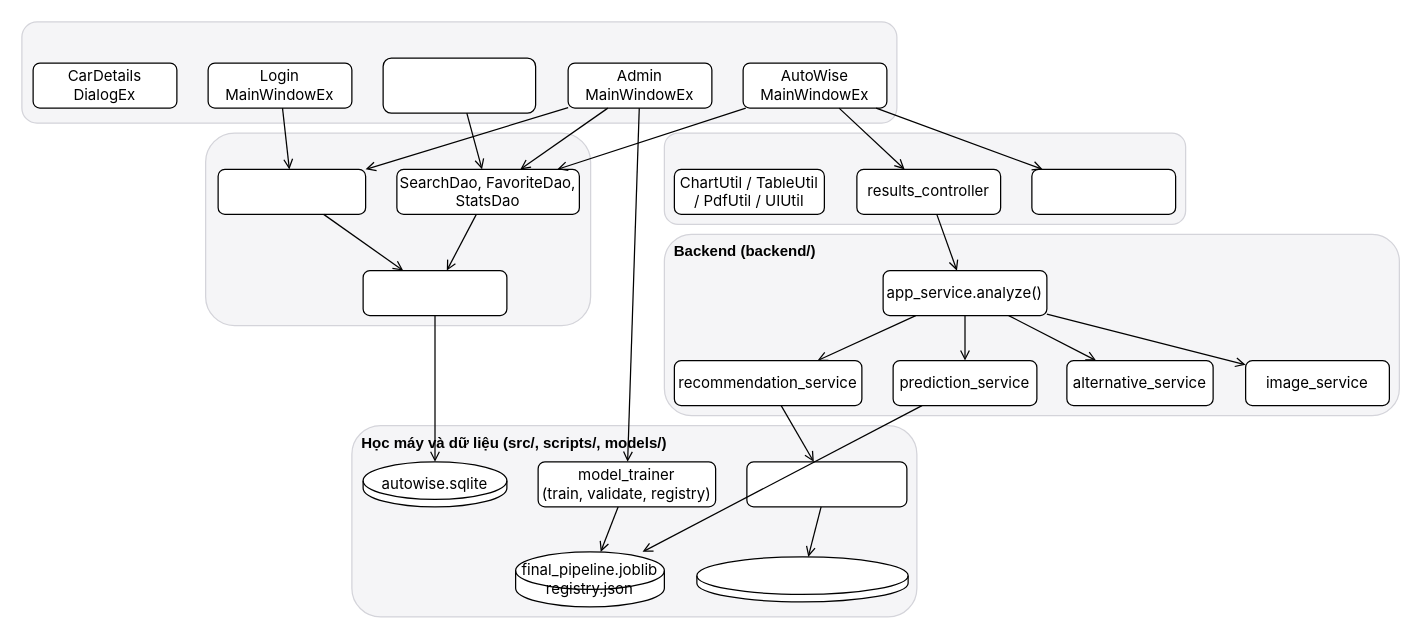
Image size: 1421x639. Some labels were removed from this diagram. The shapes that lost their labels are listed below. From the top down, each one's box as (x1, y1, x2, y2) in pixels, then its label:
(21, 21, 897, 123): Tầng giao diện (desktop_app/UI – .ui → pyuic6 → *Ex.py)
(382, 57, 536, 113): UserDialogsEx (Account, History, Favorites, Compare)
(217, 168, 366, 214): UserDao, AuditDao
(663, 132, 1186, 224): Tầng điều khiển và tiện ích (controllers/, utils/)
(1031, 168, 1176, 214): vehicle_controller
(204, 132, 591, 326): Tầng truy cập dữ liệu (dal/, connectors/, models/)
(362, 269, 507, 316): Connector (SQLite)
(746, 461, 907, 507): Recommender (KNN)
(696, 556, 908, 602): recommendation_catalog.pkl
